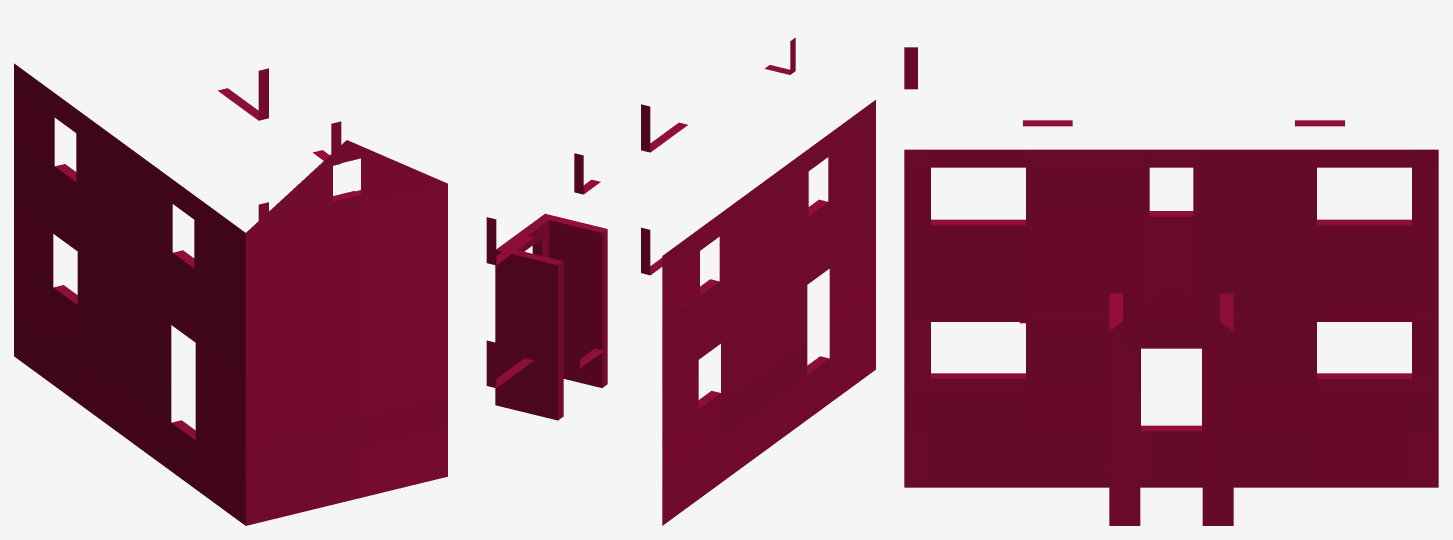
Rendered from SM_Bld_144_Masonry.glb.
3 renders of one model, left to right at view 1: azimuth 30°, elevation 25°; view 2: azimuth 150°, elevation 25°; view 3: azimuth 270°, elevation 25°, orthographic. The views are drawn at different scales.
Parts seen in each view (by area): view 1: SM_Bld_144_Masonry; view 2: SM_Bld_144_Masonry; view 3: SM_Bld_144_Masonry.
Boxes of the visible parts, x1,y1,x2,y2 form: SM_Bld_144_Masonry: [14, 63, 447, 525]; SM_Bld_144_Masonry: [486, 37, 875, 525]; SM_Bld_144_Masonry: [904, 47, 1438, 525].
Size of the model in its own units: 5.79 by 7.4 by 8.6.
